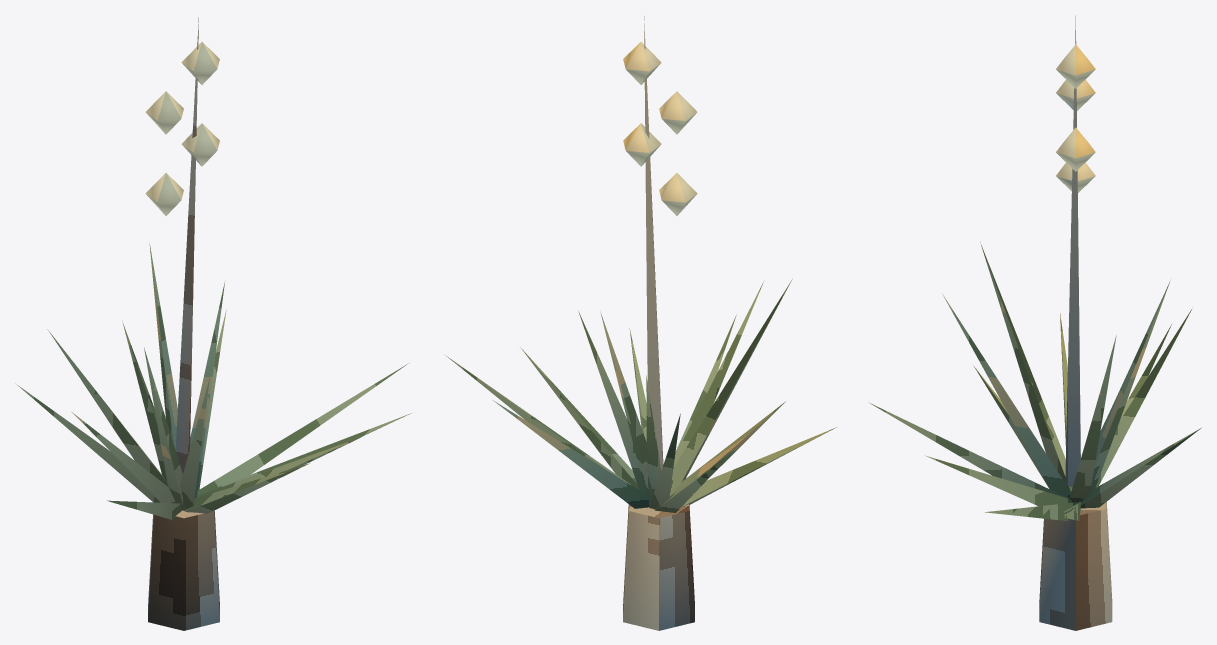
The model's file is wland.yucca.glb.
The picture shows the model from 3 angles, left to right: view 1: azimuth 30°, elevation 25°; view 2: azimuth 150°, elevation 25°; view 3: azimuth 270°, elevation 25°; orthographic projection.
Visible parts, largest first — view 1: kit_leaves, kit_trunk, kit_blooms, kit_stalk; view 2: kit_leaves, kit_trunk, kit_blooms, kit_stalk; view 3: kit_leaves, kit_trunk, kit_stalk, kit_blooms.
Part boxes in pixels (x1,y1,x2,y2): kit_leaves: (15,244,411,520); kit_trunk: (148,510,219,630); kit_blooms: (145,42,219,215); kit_stalk: (175,17,198,473); kit_leaves: (445,279,836,512); kit_trunk: (623,504,694,630); kit_blooms: (623,42,697,215); kit_stalk: (644,16,663,470); kit_leaves: (870,243,1200,521); kit_trunk: (1039,502,1112,630); kit_stalk: (1065,15,1080,487); kit_blooms: (1056,44,1095,192).
Size of the model in its own units: 1.17 by 1.9 by 0.9535.
3 materials, 3 textured.
